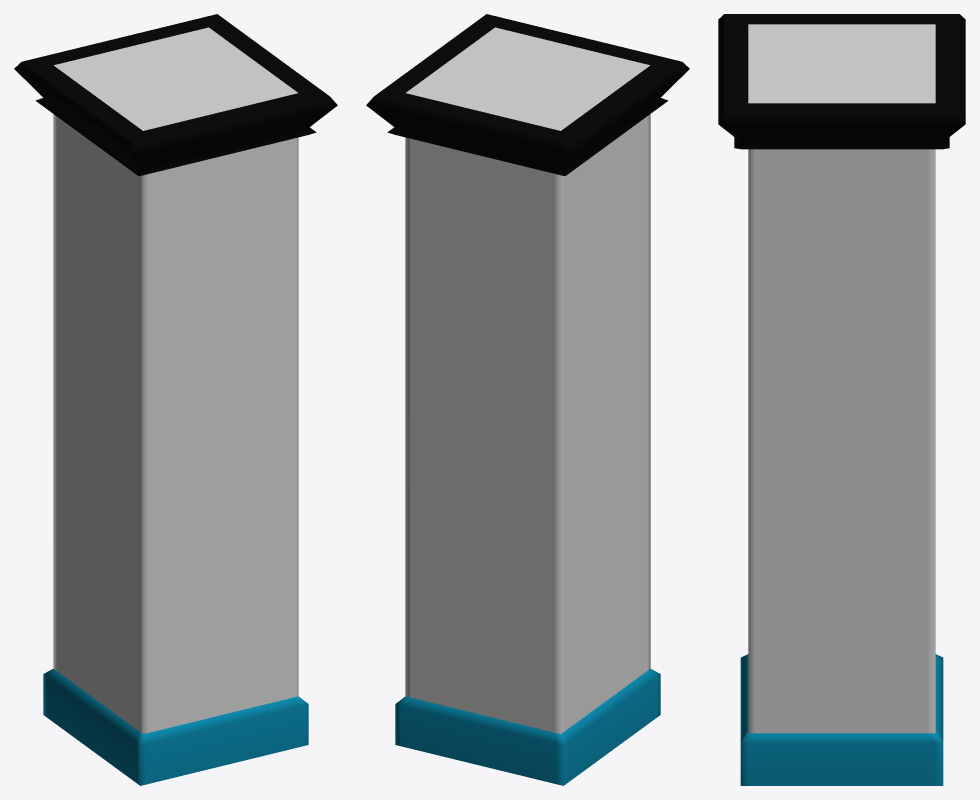
Rendered from Neo_Pillar_01_M.fbx.
3 renders of one model, left to right at view 1: azimuth 30°, elevation 25°; view 2: azimuth 150°, elevation 25°; view 3: azimuth 270°, elevation 25°, orthographic. The views are drawn at different scales.
Visible parts, largest first — view 1: Neo_Pillar_01_M_LOD00; view 2: Neo_Pillar_01_M_LOD00; view 3: Neo_Pillar_01_M_LOD00.
Boxes of the visible parts, <box> form: Neo_Pillar_01_M_LOD00: <box>14,14,337,785</box>; Neo_Pillar_01_M_LOD00: <box>366,14,689,785</box>; Neo_Pillar_01_M_LOD00: <box>718,14,965,785</box>.
Size of what is drawn, in the model's own units: 99.08 by 300 by 99.08.
